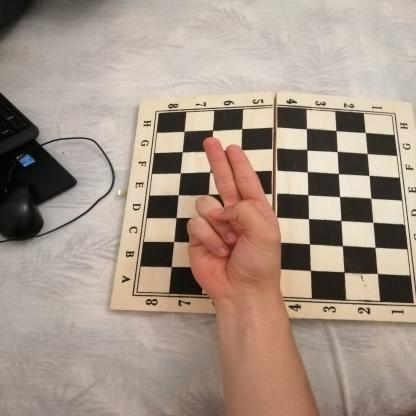TA: (174, 125, 291, 311)
